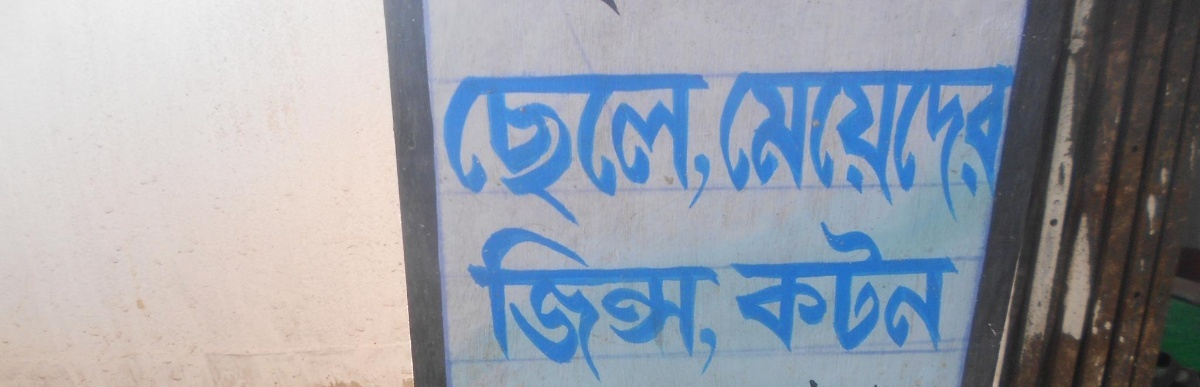text: (705, 227, 721, 383), (721, 61, 736, 225), (737, 61, 752, 225), (753, 61, 768, 225), (769, 61, 784, 225), (785, 61, 800, 225), (801, 61, 816, 225), (817, 61, 832, 225), (833, 61, 848, 225), (849, 61, 864, 225), (865, 61, 880, 225), (881, 61, 896, 225), (897, 61, 912, 225), (913, 61, 928, 225), (929, 61, 944, 225), (945, 61, 960, 225), (961, 61, 976, 225), (977, 61, 992, 225), (993, 61, 1008, 225), (449, 71, 464, 227), (465, 71, 480, 227), (481, 71, 496, 227), (497, 71, 512, 227), (513, 71, 528, 227), (529, 71, 544, 227), (545, 71, 560, 227), (561, 71, 576, 227), (577, 71, 592, 227), (593, 71, 608, 227), (609, 71, 624, 227), (625, 71, 640, 227), (641, 71, 656, 227), (657, 71, 672, 227), (673, 71, 688, 227), (689, 71, 704, 227), (465, 227, 480, 383), (481, 227, 496, 383), (497, 227, 512, 383), (513, 227, 528, 383), (529, 227, 544, 383), (545, 227, 560, 383), (561, 227, 576, 383), (577, 227, 592, 383), (593, 227, 608, 383), (609, 227, 624, 383), (625, 227, 640, 383), (641, 227, 656, 383), (657, 227, 672, 383), (673, 227, 688, 383), (689, 227, 704, 383), (737, 220, 752, 357), (753, 220, 768, 357), (769, 220, 784, 357), (785, 220, 800, 357), (801, 220, 816, 357), (817, 220, 832, 357), (833, 220, 848, 357), (849, 220, 864, 357), (865, 220, 880, 357), (881, 220, 896, 357), (897, 220, 912, 357), (913, 220, 928, 357), (929, 220, 944, 357), (945, 220, 960, 357), (1009, 61, 1019, 225), (440, 71, 448, 227), (705, 71, 713, 227), (732, 220, 736, 357)
